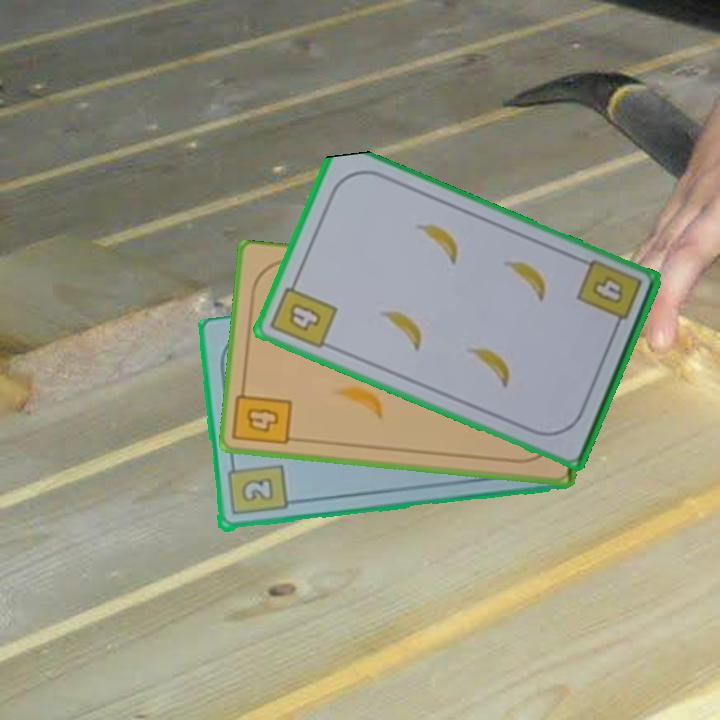2b: (223, 457, 289, 519)
4b: (266, 274, 340, 352), (573, 256, 645, 335), (231, 381, 296, 448)
